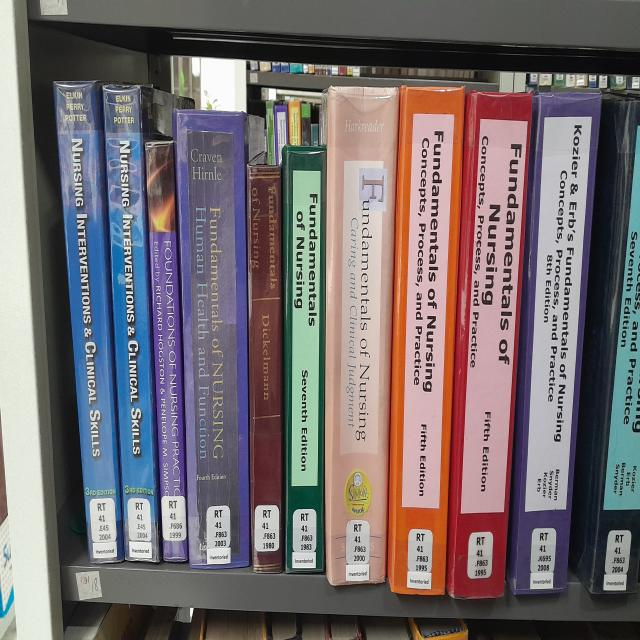book: (507, 94, 600, 595), (447, 92, 531, 598), (388, 86, 465, 595), (321, 86, 399, 585), (569, 99, 640, 594), (174, 110, 249, 569), (53, 81, 122, 563), (103, 84, 159, 562), (283, 146, 326, 573), (145, 139, 187, 561), (248, 165, 283, 573)
